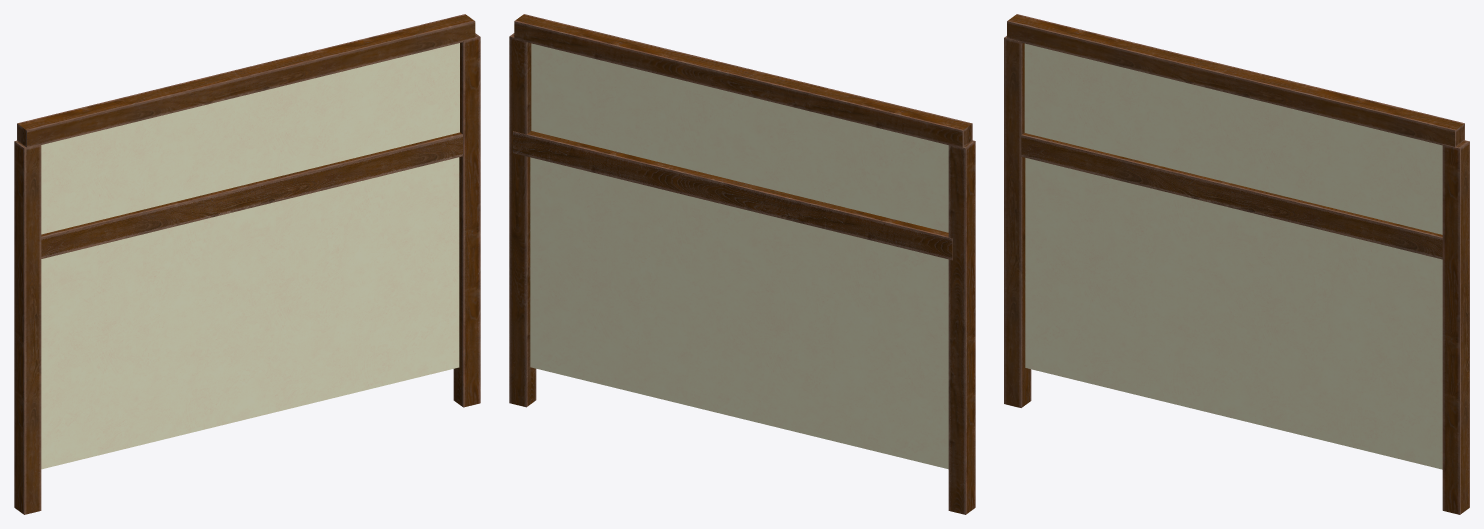
Rendered from JP_Wall.001.fbx.
3 renders of one model, left to right at view 1: azimuth 30°, elevation 25°; view 2: azimuth 150°, elevation 25°; view 3: azimuth 330°, elevation 25°, orthographic.
Visible parts, largest first — view 1: JP_Wall.001; view 2: JP_Wall.001; view 3: JP_Wall.001.
Boxes of the visible parts, <box> form: JP_Wall.001: <box>14,14,480,514</box>; JP_Wall.001: <box>509,14,975,514</box>; JP_Wall.001: <box>1004,14,1469,514</box>.
Size of the model in its own units: 539 by 433 by 20.81.
